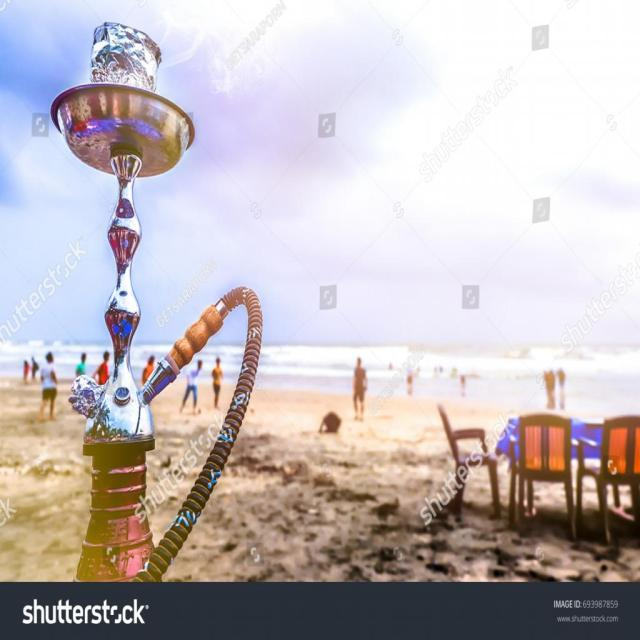smoking: (45, 14, 276, 587)
